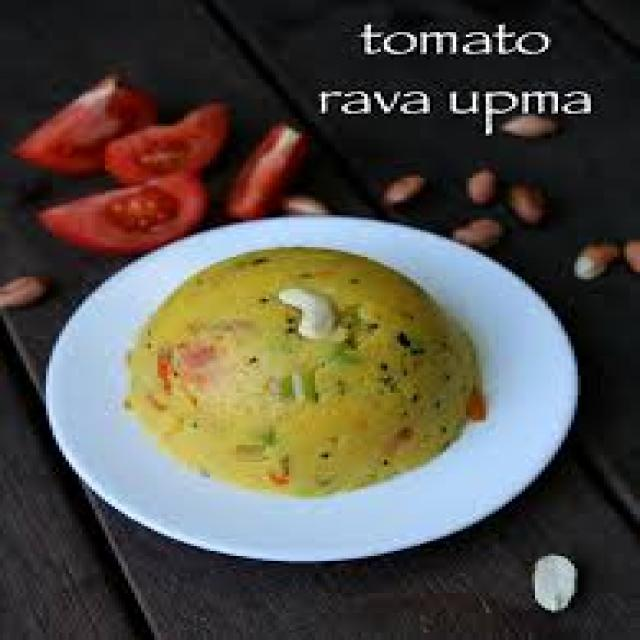UPMA: (128, 247, 479, 492)
